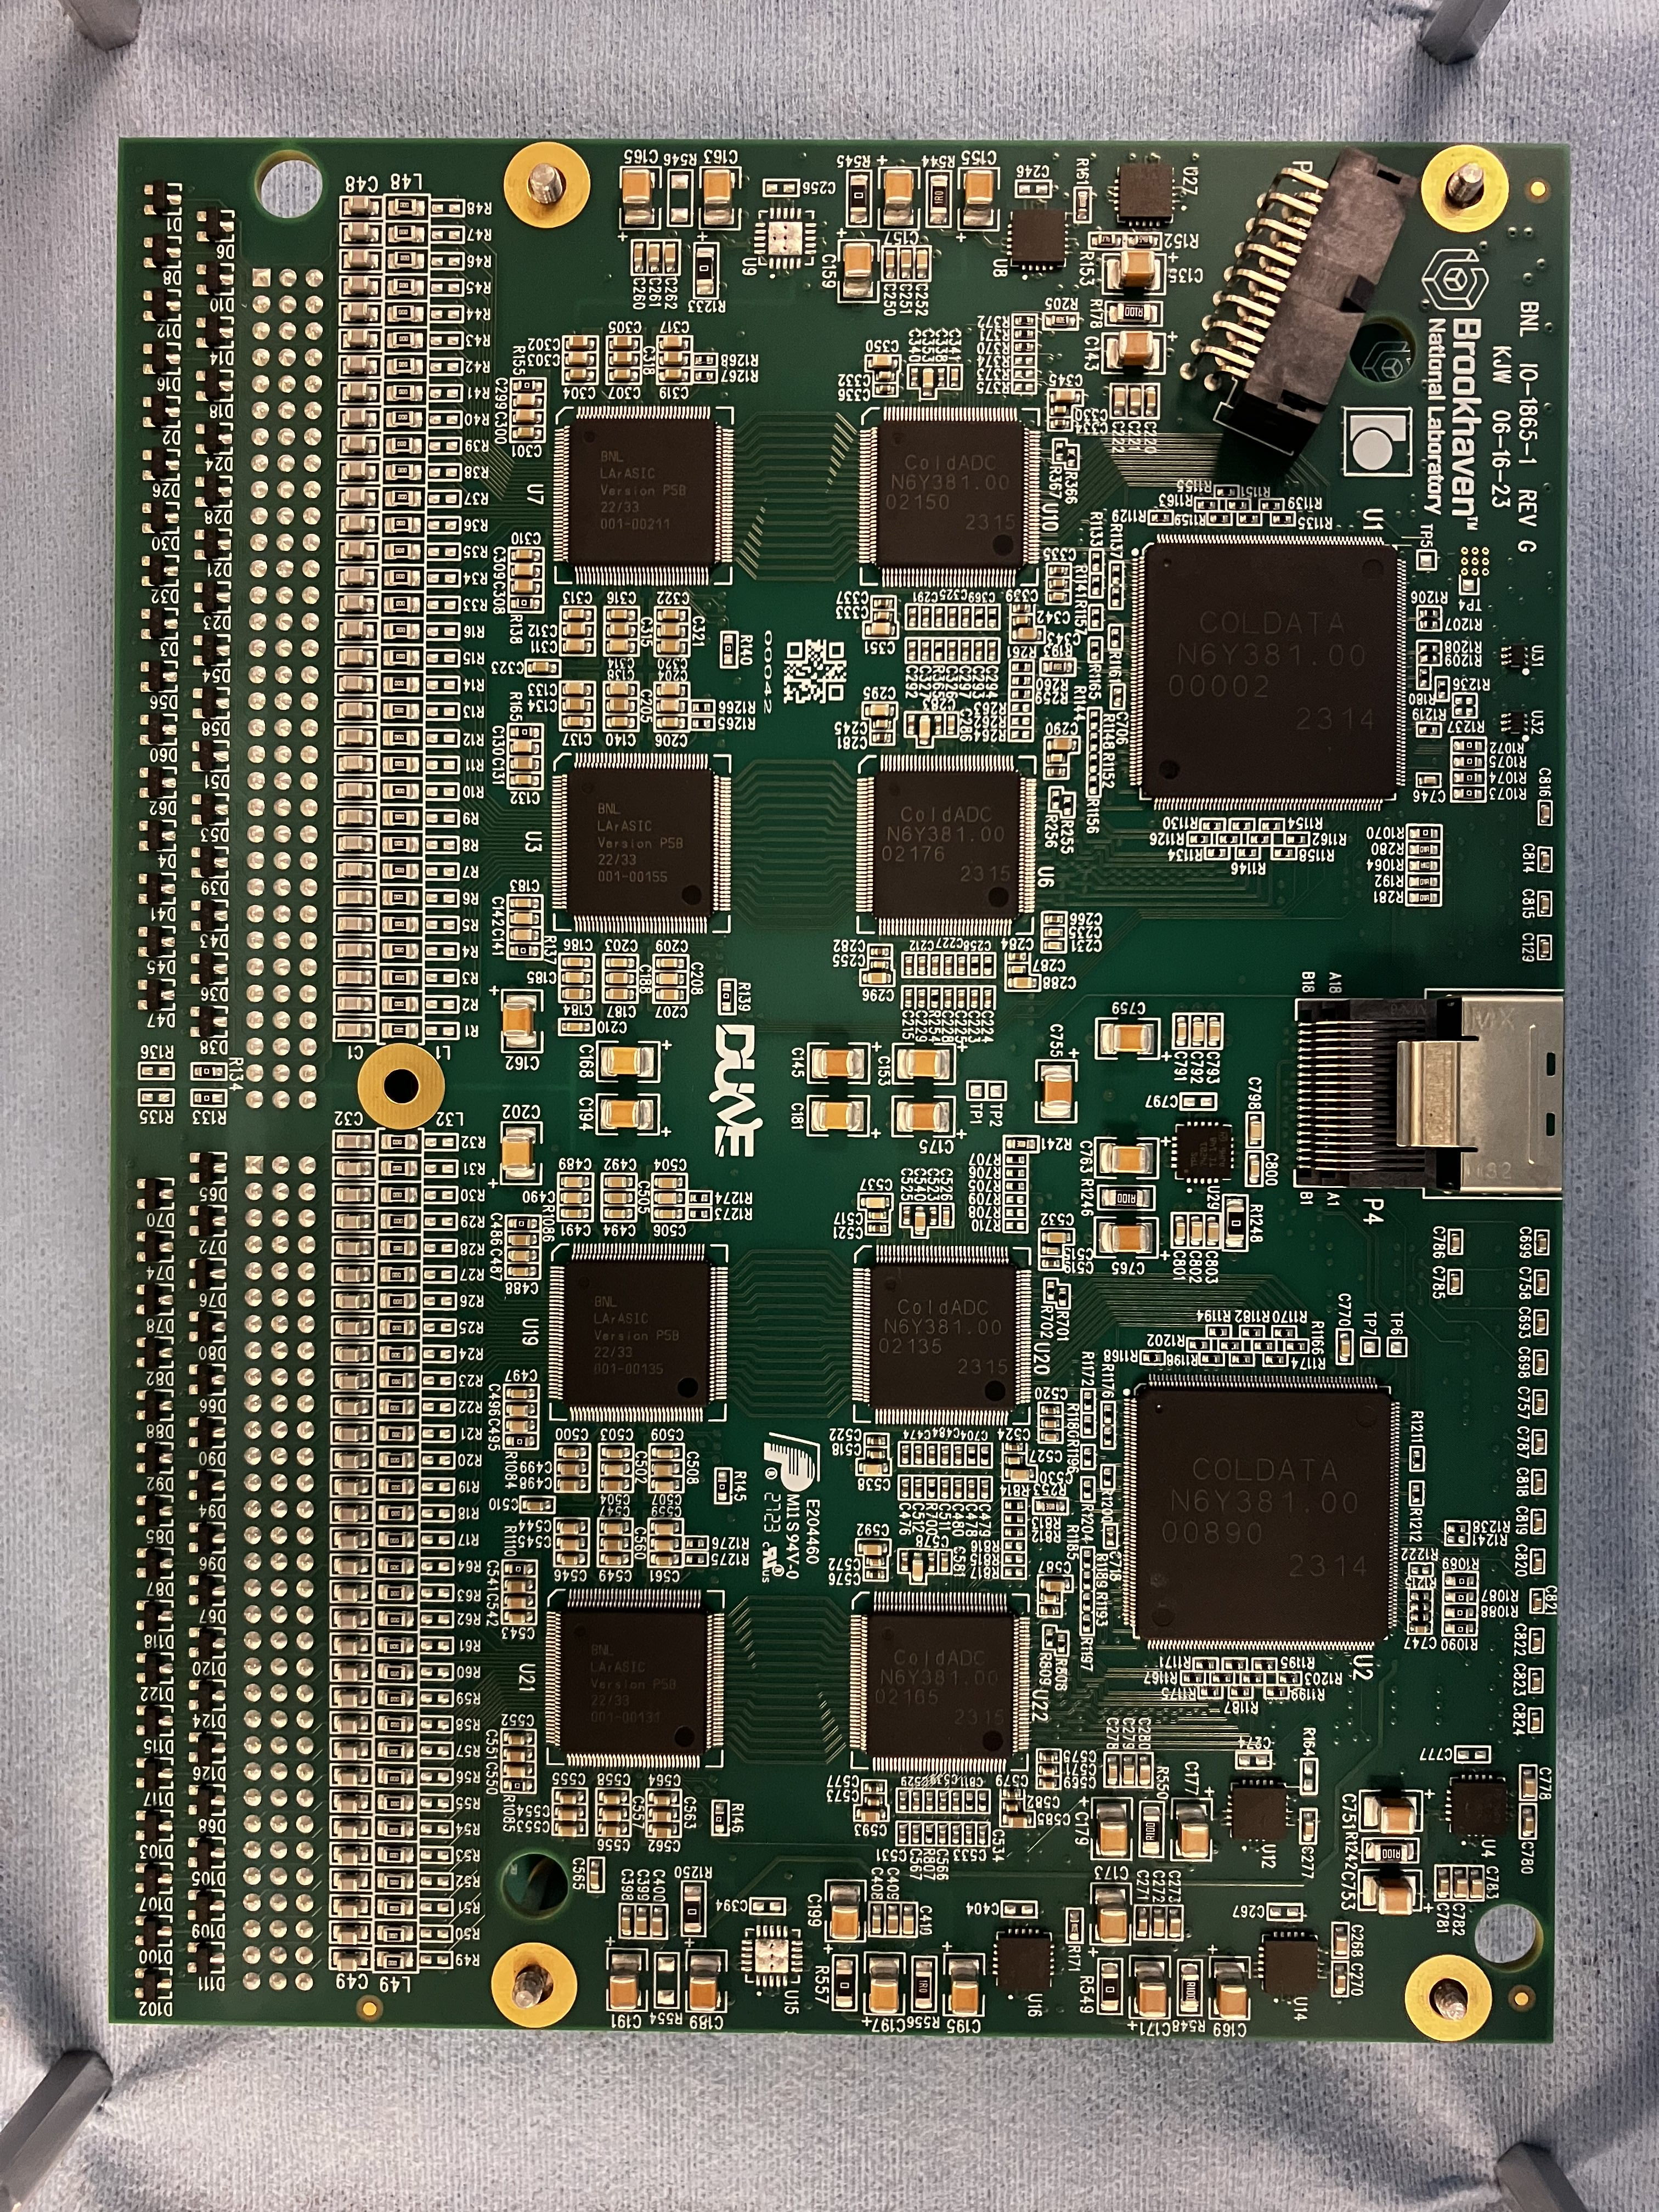chip: (1138, 1383, 1389, 1641), (1143, 543, 1392, 801), (568, 420, 716, 568), (877, 423, 1023, 571), (565, 766, 711, 914), (875, 772, 1021, 920), (565, 1259, 711, 1407), (868, 1263, 1014, 1411), (559, 1604, 706, 1752), (866, 1606, 1012, 1754)
